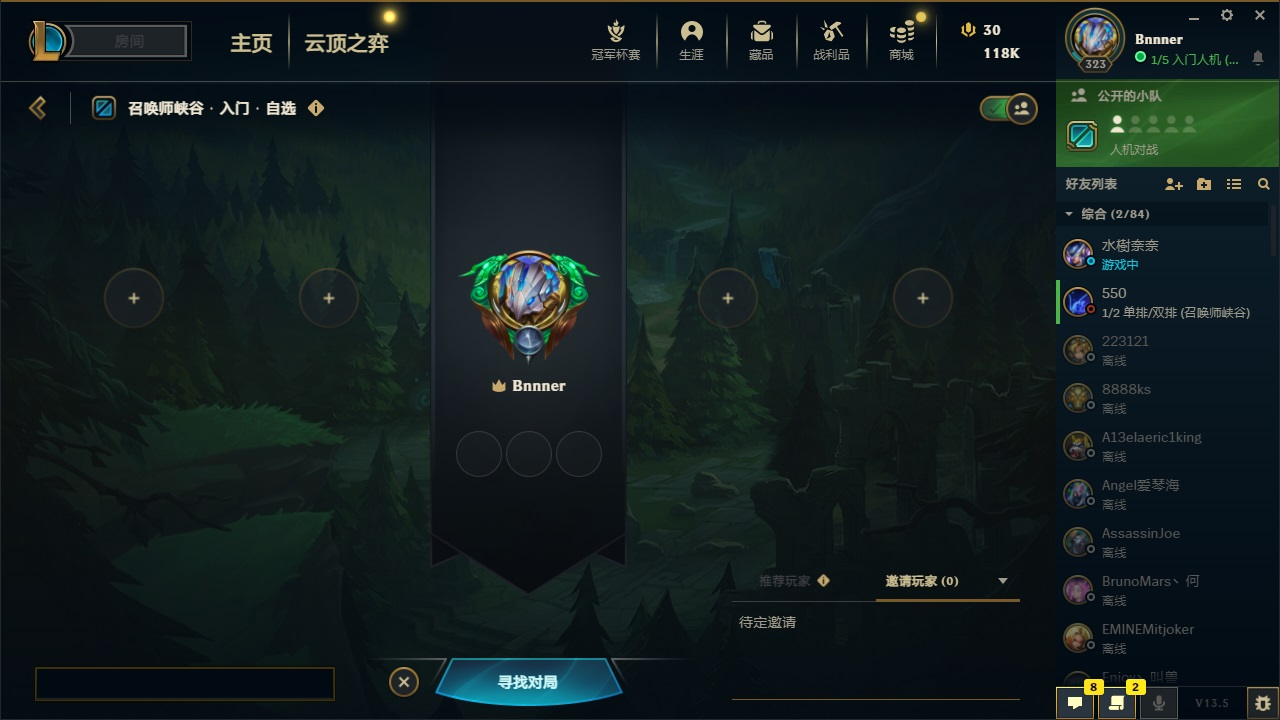RMRJFJ: (118, 92, 301, 127)
XZDJ: (427, 652, 632, 714)
